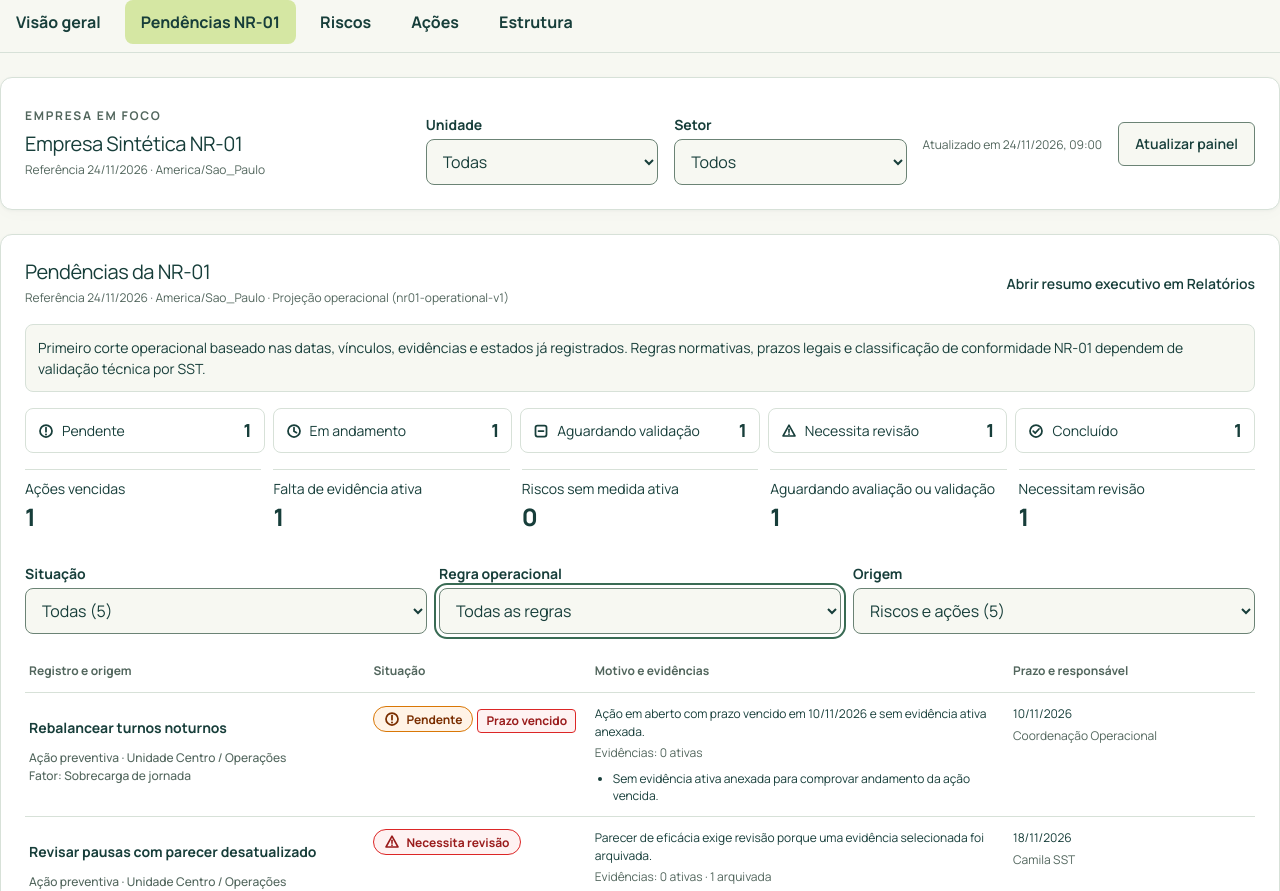
Test: exibe os cinco estados NR-01, faltas de informação, filtros, links de origem e descarta dados após revogação
Expected: the text "Regras normativas, prazos legais e classificação de conformidade NR-01" is shown, [38,338,1183,378]
Expected: the text "Pendente" in the row of "Rebalancear turnos noturnos" is shown, [406,711,462,728]
Select "Falta de evidência ativa" in the dropdown labelled "Regra operacional": coordinates (640, 611) [439,588,841,634]
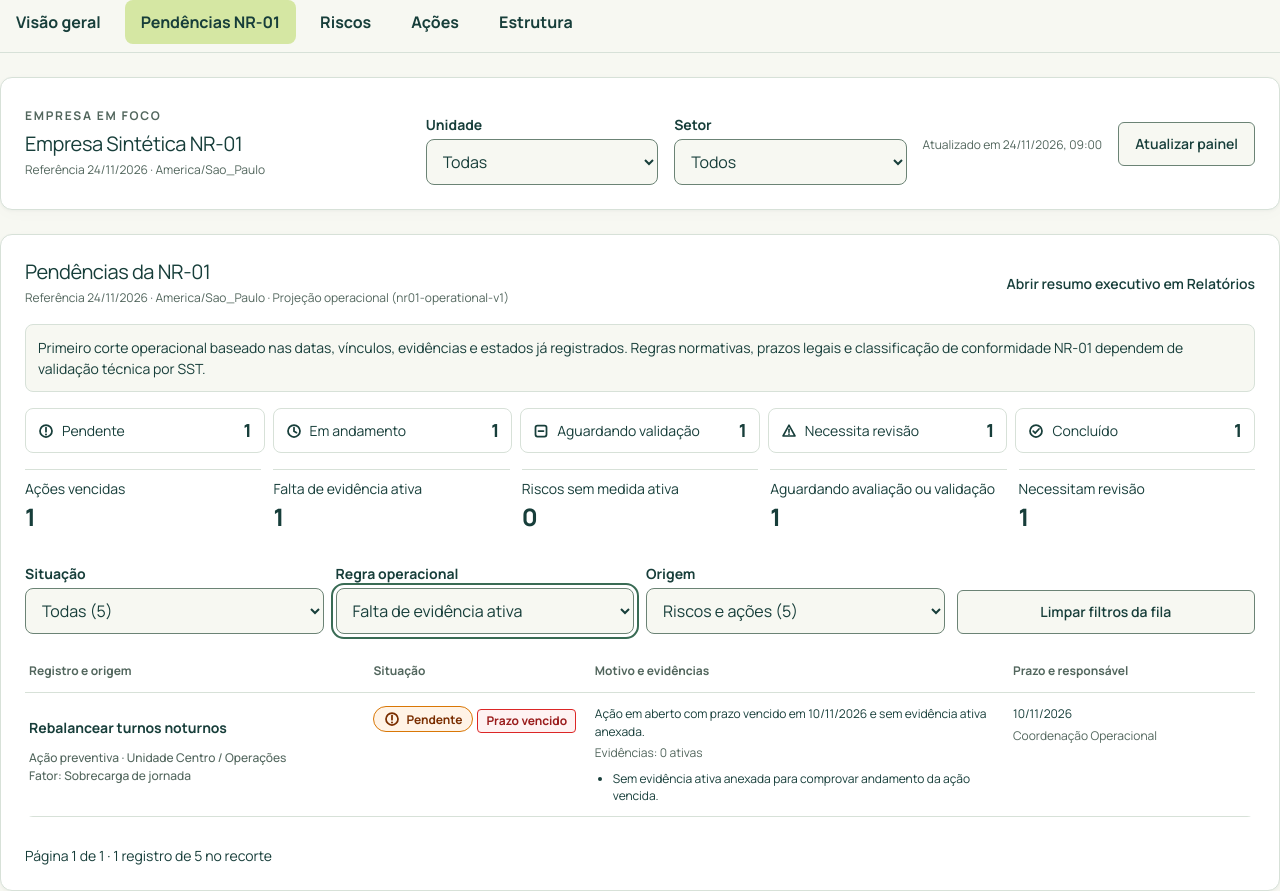
Expected: the number of rows is 2, [25,650,1255,693]; [25,693,1255,817]
Select "Riscos do inventário (1)" in the dropdown labelled "Origem": coordinates (795, 611) [646,588,944,634]
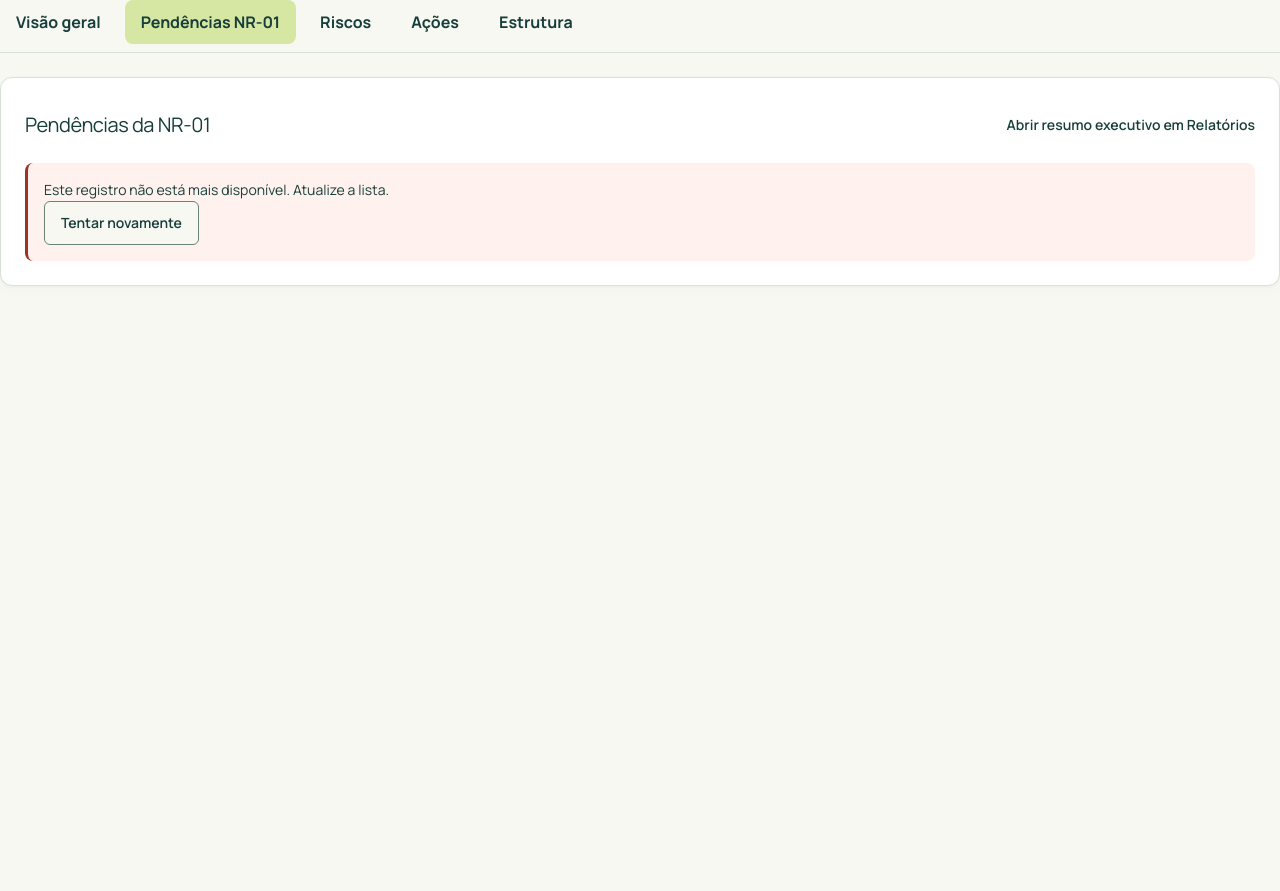
Expected: the text "EMPRESA EM FOCO" is gone
Expected: the label labelled "Unidade" is gone
Expected: the message "Este registro não está mais disponível. Atualize a lista. Tentar novamente" is shown, [25,163,1255,261]
